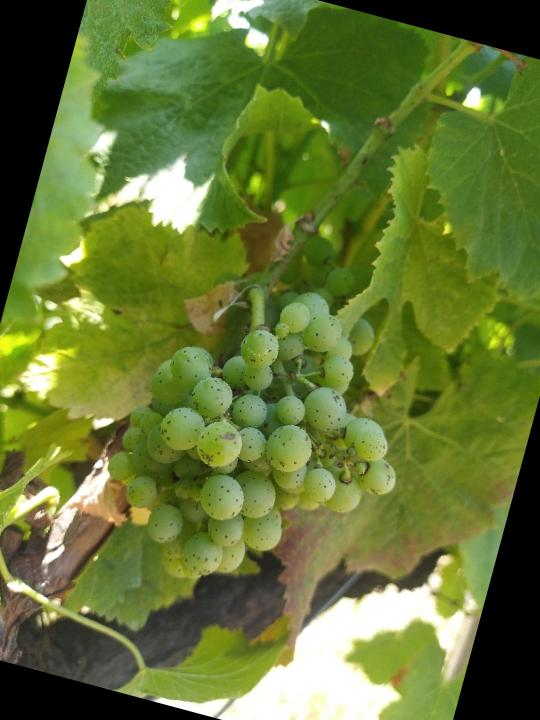grape: (83, 251, 440, 630)
